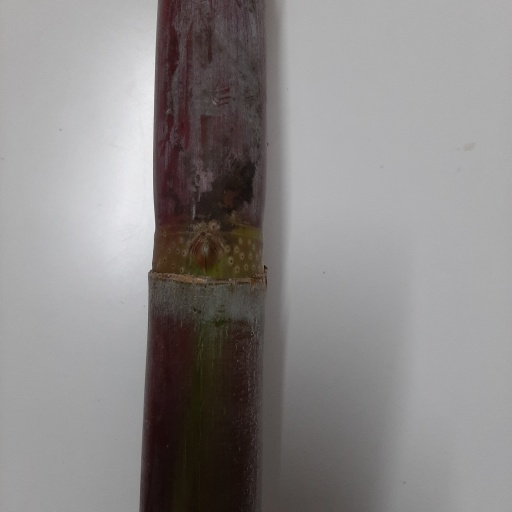Bud: (188, 234, 221, 274)
